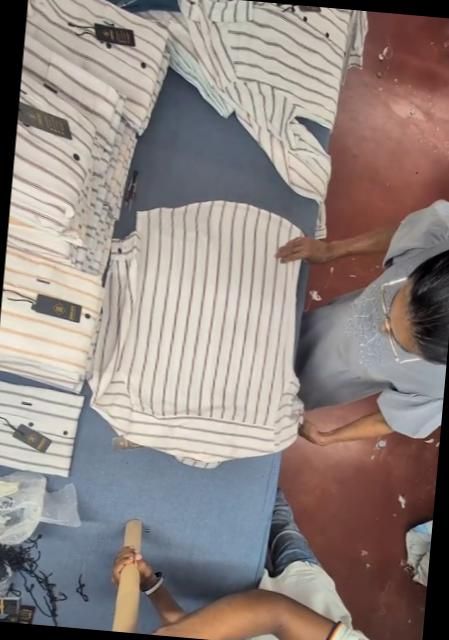new-garment: (88, 202, 301, 466)
